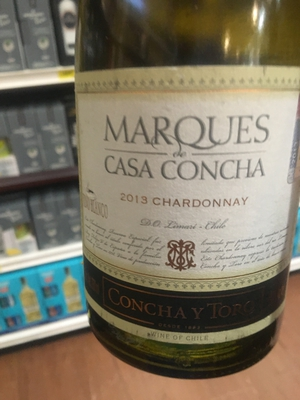marques de casa concha chardonnay: (66, 15, 298, 382)
